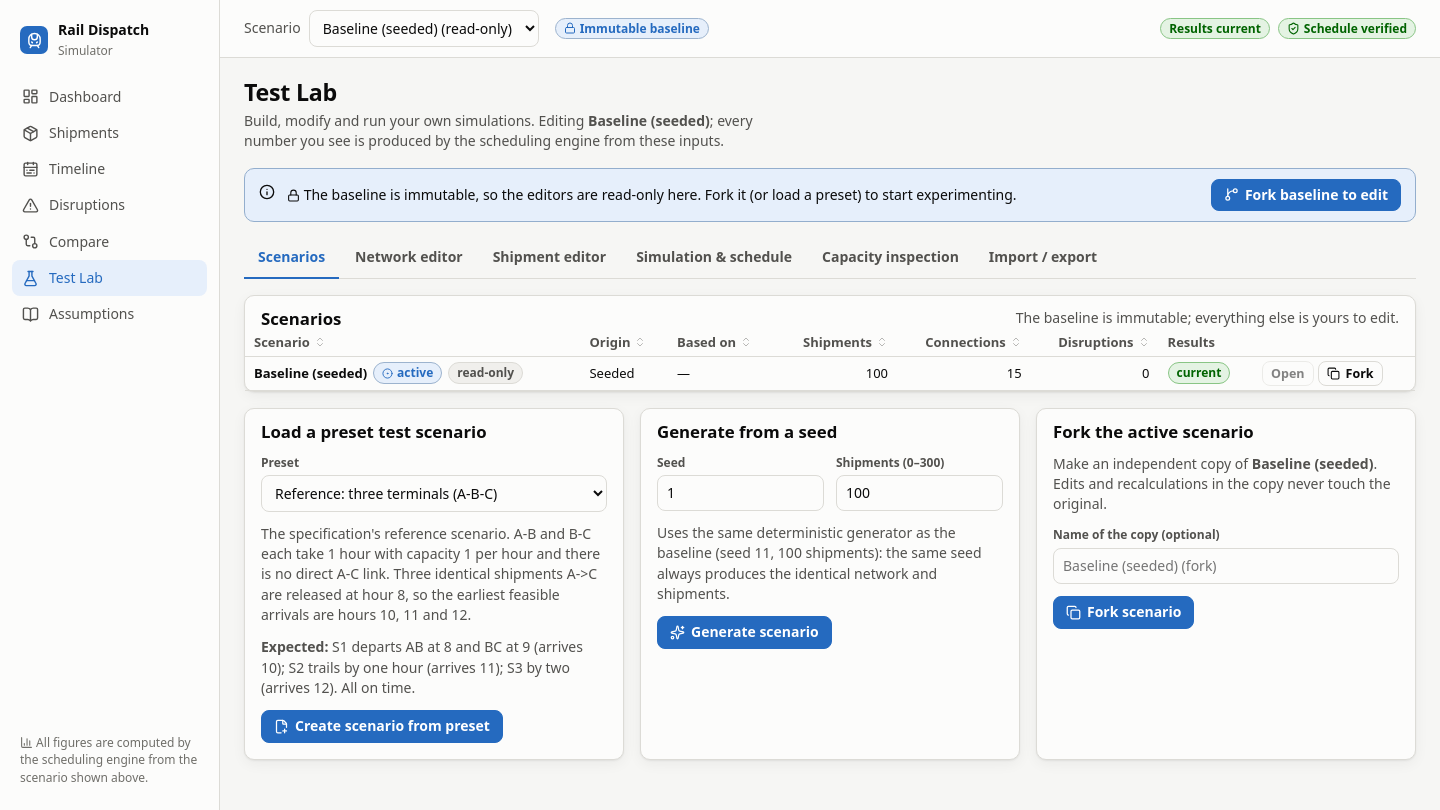
Test: test lab › the three-terminal preset shows arrivals 10, 11, 12 and all expectations passing
The image size is (1440, 810).
Select "Reference: three terminals (A-B-C)" in the dropdown named "Preset scenario": (434, 493) x1=261 y1=475 x2=607 y2=512
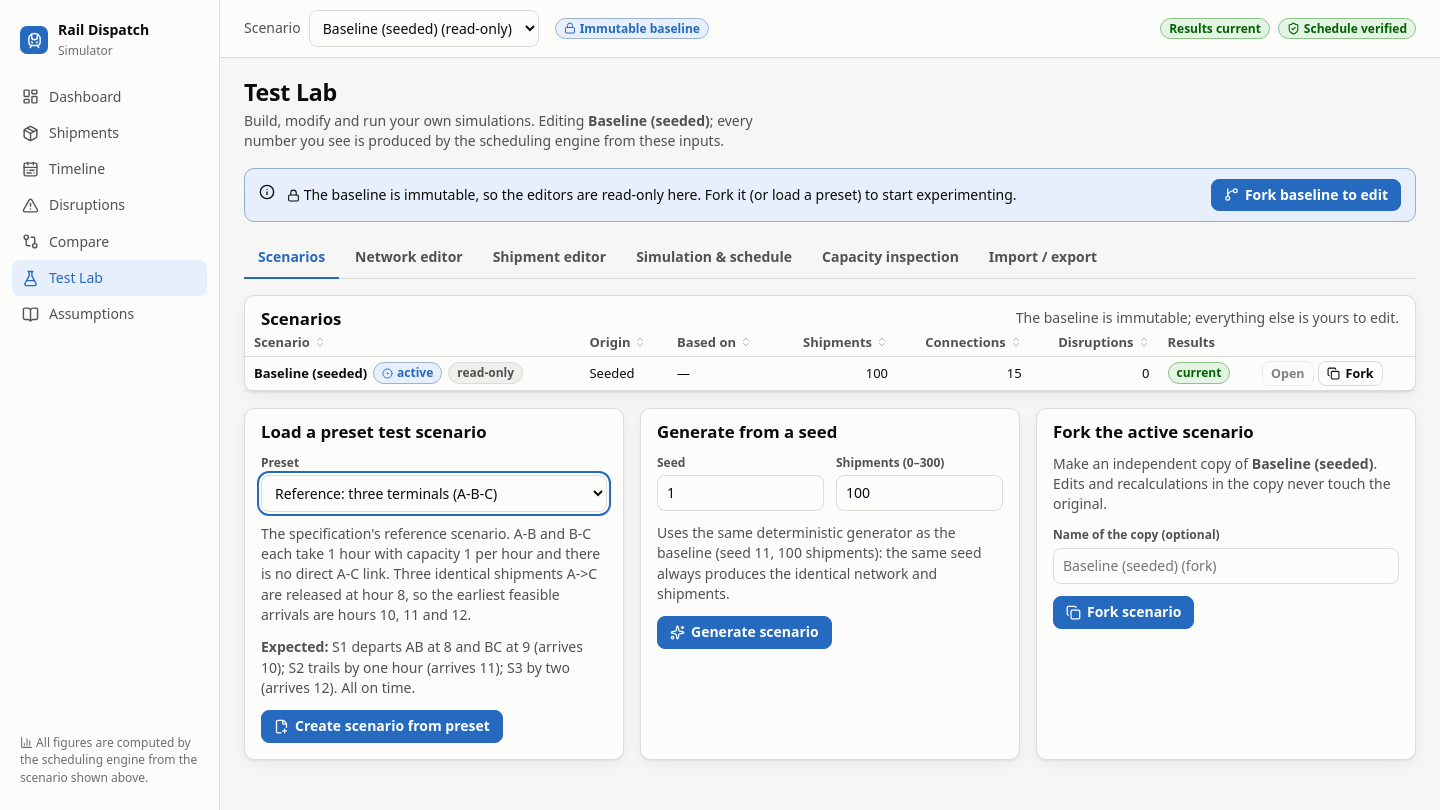
Click the button "Create scenario from preset": (382, 727) x1=261 y1=710 x2=503 y2=743
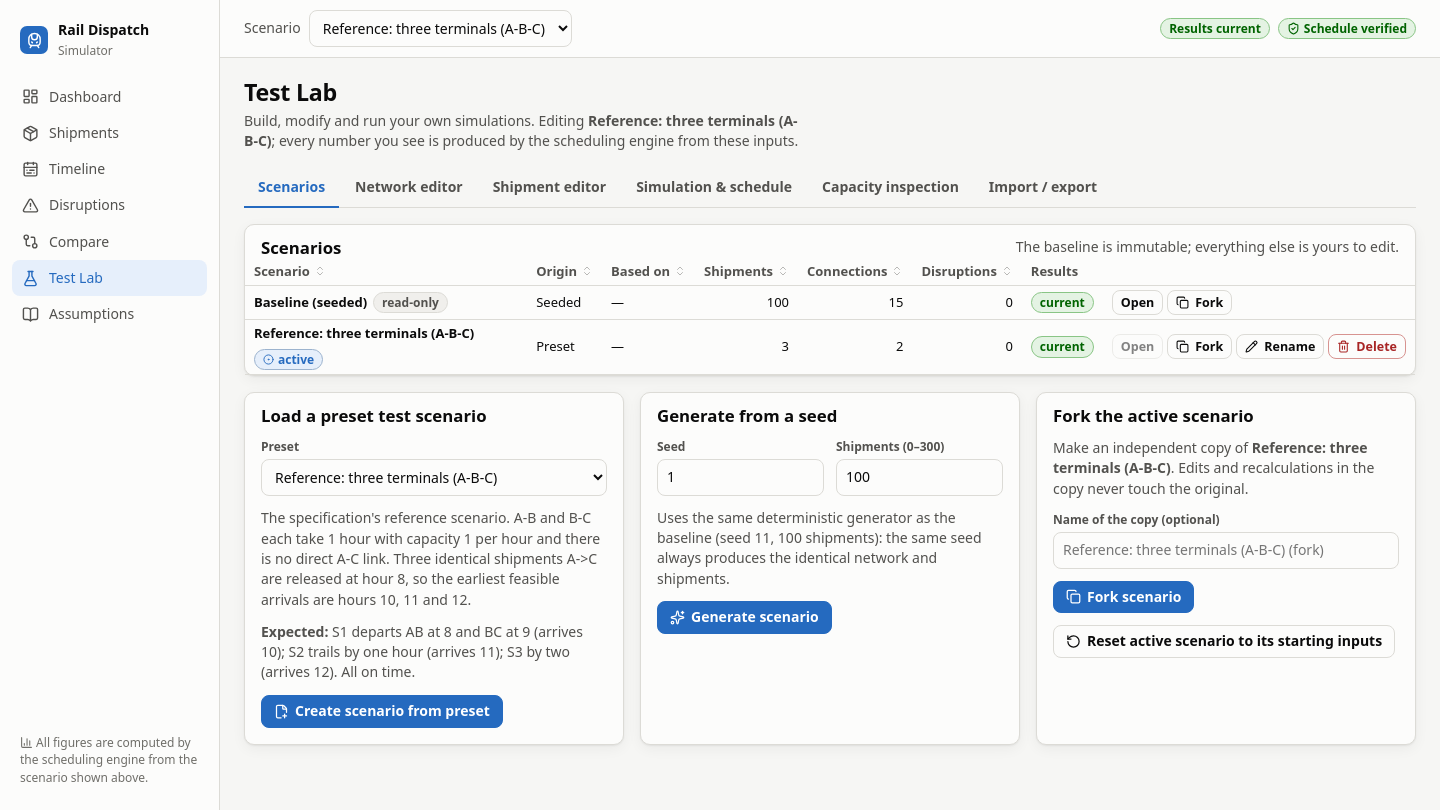
Click the link "Simulation & schedule": (714, 186) x1=636 y1=177 x2=792 y2=196
(page scrolled)
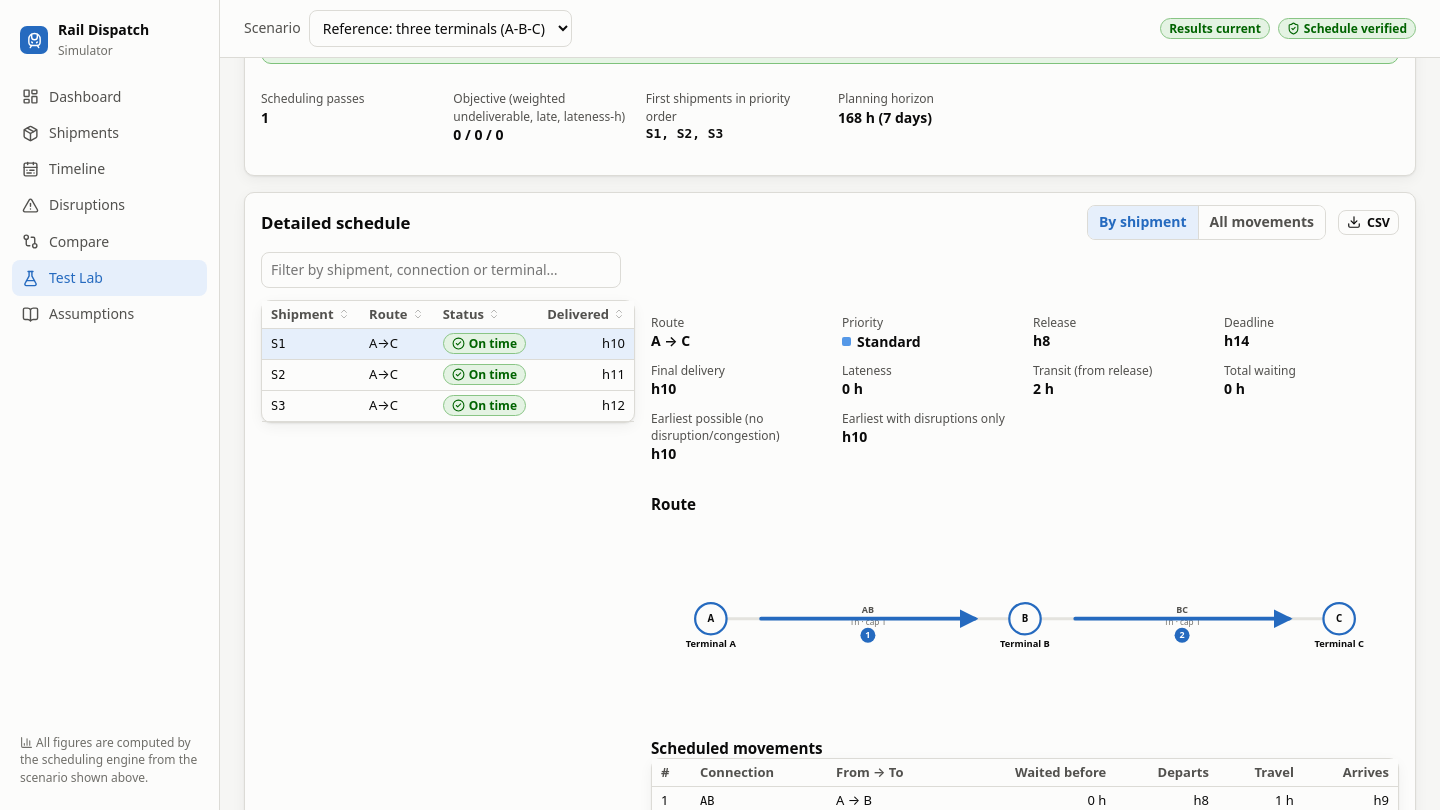
Expected: the text "h10" is shown, x1=537 y1=329 x2=634 y2=359
Expected: the text "h11" is shown, x1=537 y1=359 x2=634 y2=390
Expected: the text "h12" is shown, x1=537 y1=390 x2=634 y2=421
